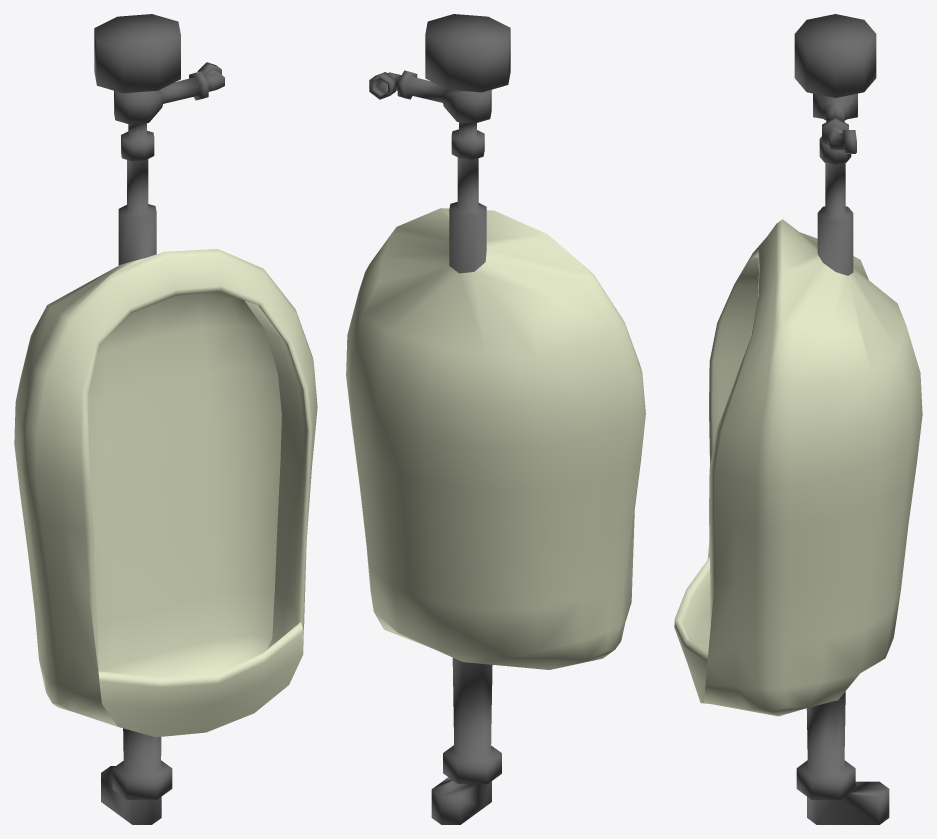
Rendered from urinal.fbx.
3 renders of one model, left to right at view 1: azimuth 30°, elevation 25°; view 2: azimuth 150°, elevation 25°; view 3: azimuth 270°, elevation 25°, orthographic.
Parts seen in each view (by area): view 1: Cube.041; view 2: Cube.041; view 3: Cube.041.
Boxes of the visible parts, x1,y1,x2,y2 form: Cube.041: (14, 14, 317, 824); Cube.041: (346, 14, 645, 824); Cube.041: (674, 14, 922, 824).
Bounding box in the file's own units: 50.92 × 131 × 37.57.
